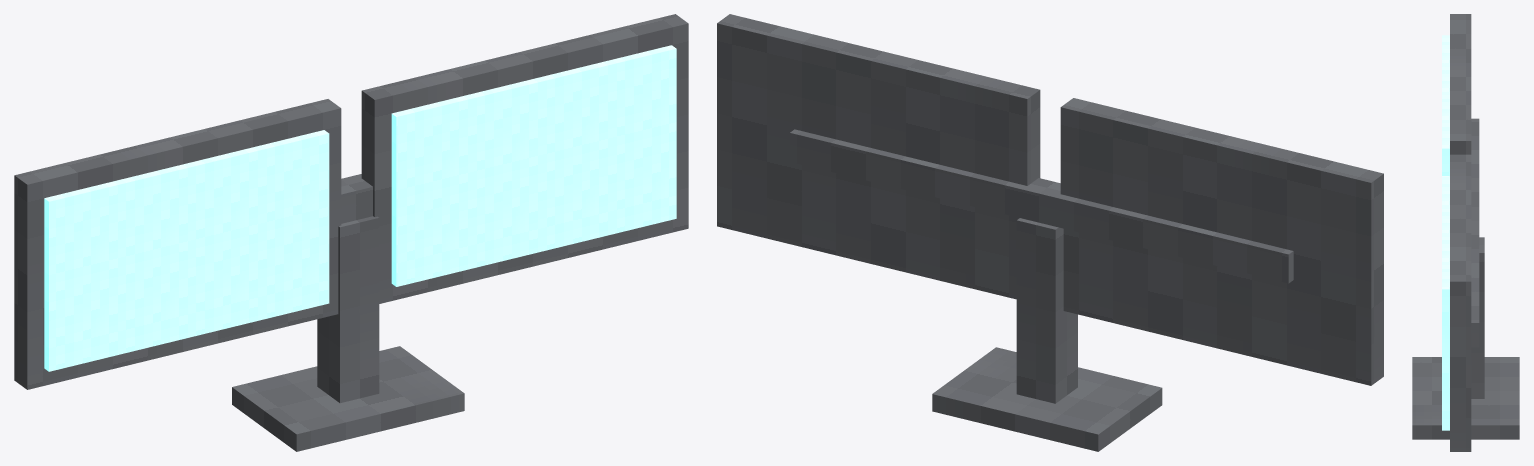
File: pixel-modern-office-dual-monitors-ba90c55b.glb
3 views of the same model, side by side, from view 1: azimuth 30°, elevation 25°; view 2: azimuth 150°, elevation 25°; view 3: azimuth 270°, elevation 25° (orthographic). The views are drawn at different scales.
Parts seen in each view (by area): view 1: dual-monitors; view 2: dual-monitors; view 3: dual-monitors.
Boxes of the visible parts, x1,y1,x2,y2 form: dual-monitors: [14, 14, 688, 451]; dual-monitors: [717, 14, 1383, 451]; dual-monitors: [1412, 14, 1519, 451].
Bounding box in the file's own units: 1.18 × 0.53 × 0.1999.
2 materials, 2 textured.
